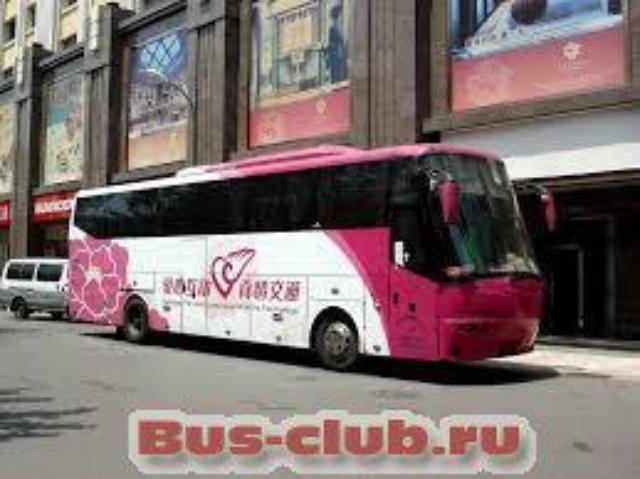bus: (57, 133, 571, 373)
